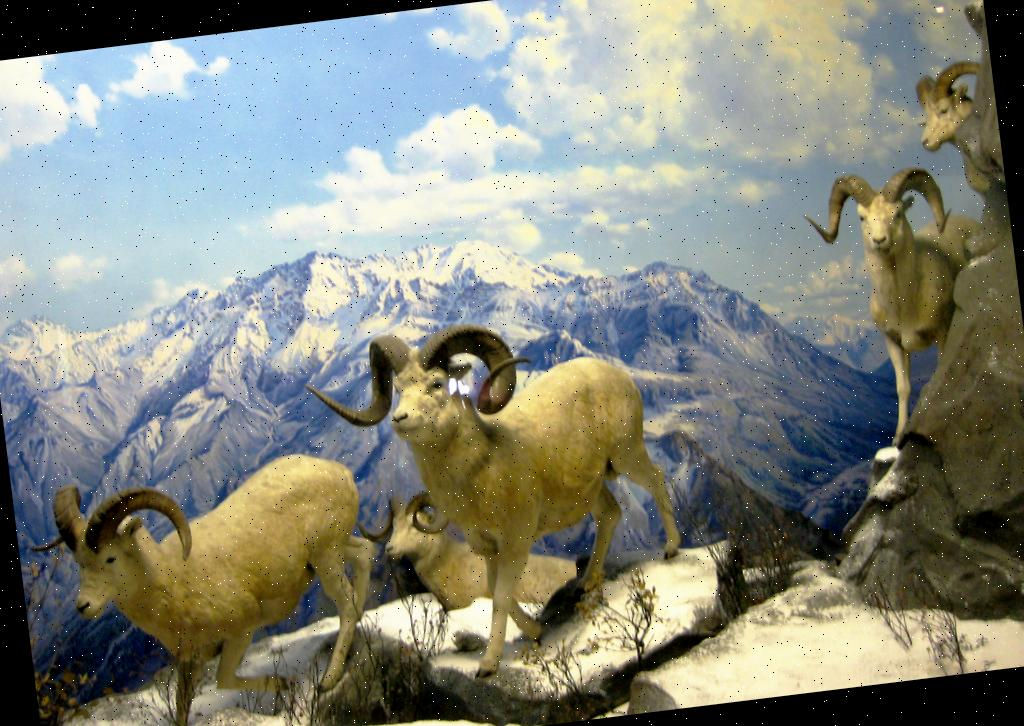Sheep: (292, 283, 712, 700), (14, 424, 402, 726), (798, 144, 1014, 452), (350, 443, 604, 642), (902, 39, 1016, 278)
